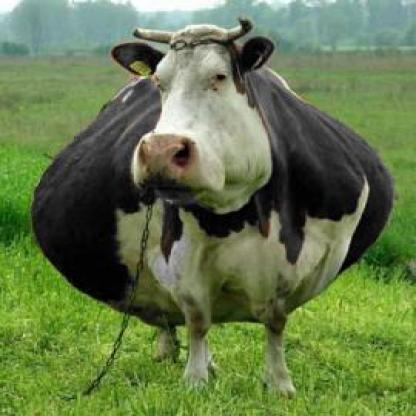cow: (33, 26, 394, 396)
